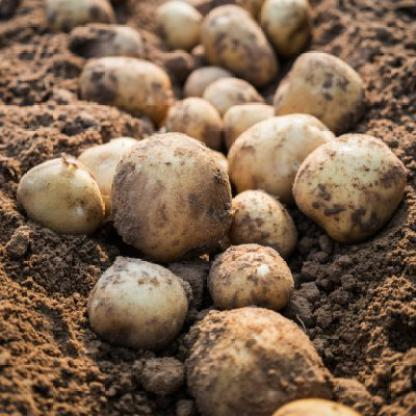potato: (100, 131, 239, 266), (289, 123, 409, 245), (208, 243, 298, 306)
